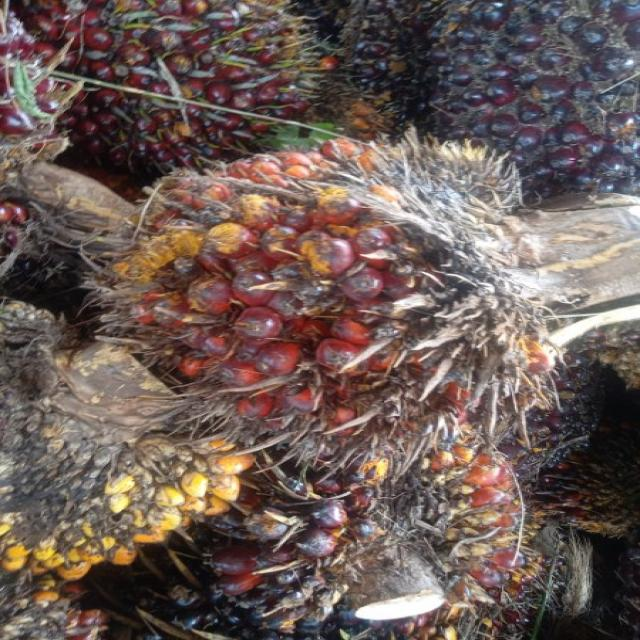fraksi 3: (77, 113, 580, 490)
